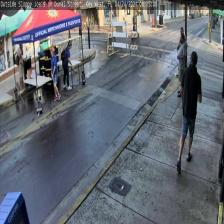person: (176, 51, 202, 173)
